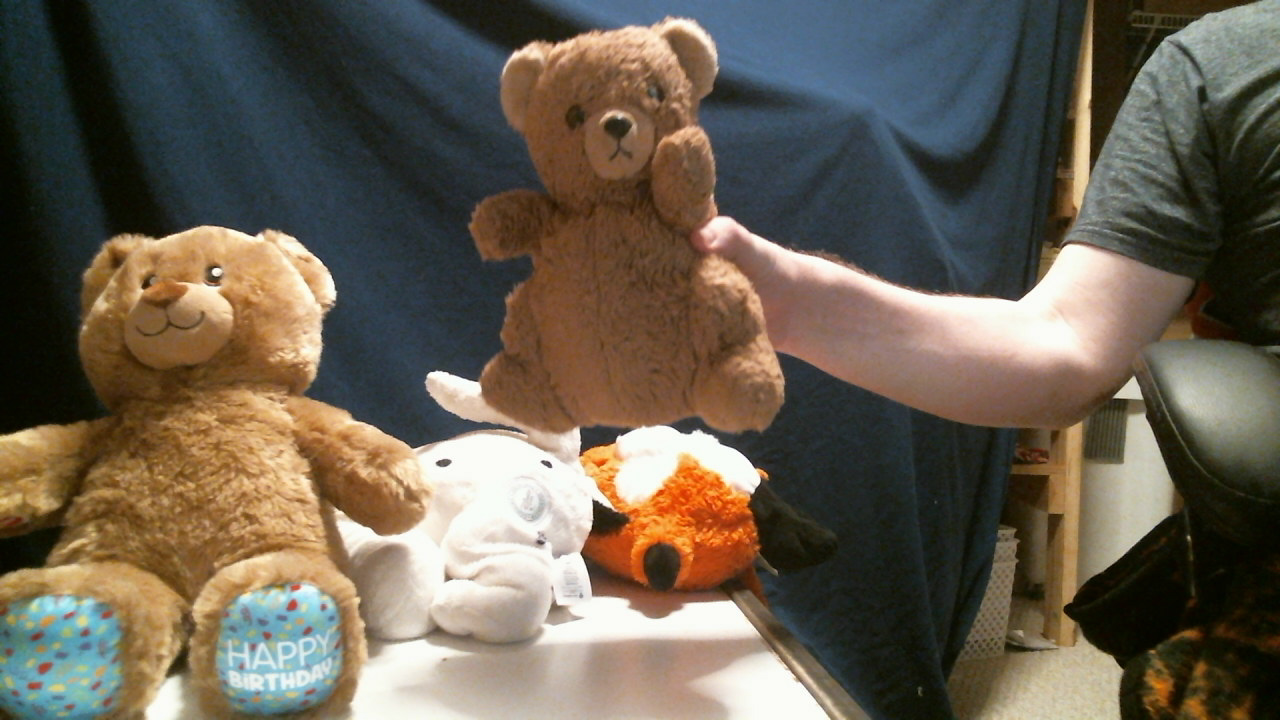Little_Mister_Bear: (561, 85, 680, 188)
